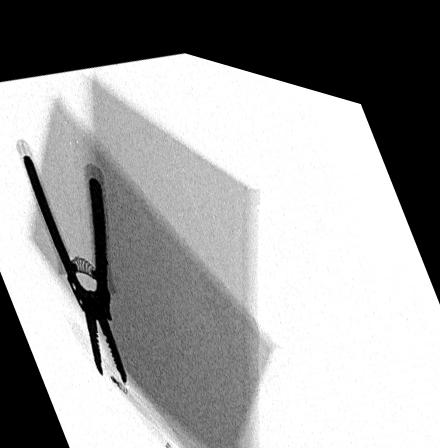Pliers: (19, 150, 128, 376)
